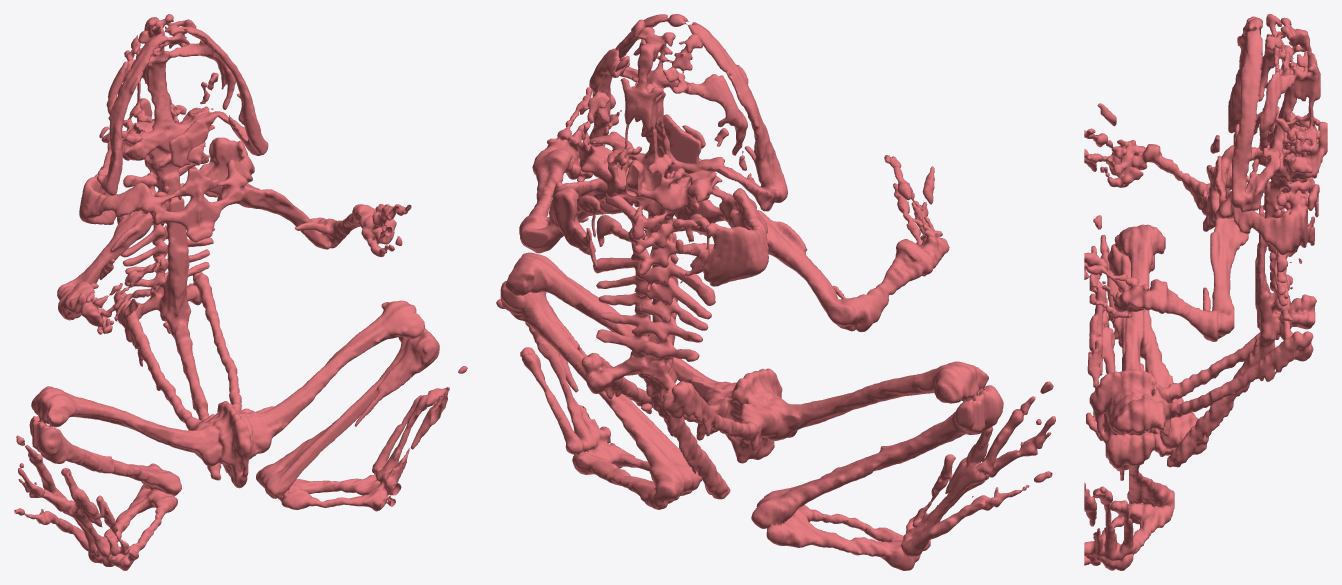
The model's file is frog_muscles.glb.
3 renders of one model, left to right at view 1: azimuth 30°, elevation 25°; view 2: azimuth 150°, elevation 25°; view 3: azimuth 270°, elevation 25°, orthographic. The views are drawn at different scales.
Visible parts, largest first — view 1: frog_muscles; view 2: frog_muscles; view 3: frog_muscles.
Part boxes in pixels (box(x1,y1,x2,y2)): frog_muscles: box(14, 14, 467, 570); frog_muscles: box(496, 14, 1055, 570); frog_muscles: box(1084, 14, 1327, 570).
Size of the model in its own units: 1.8 by 1.77 by 0.7984.
